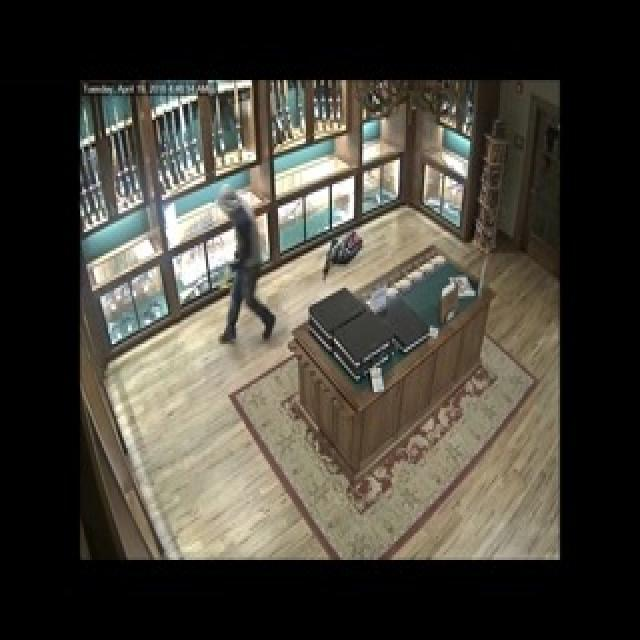thief: (207, 181, 269, 369)
